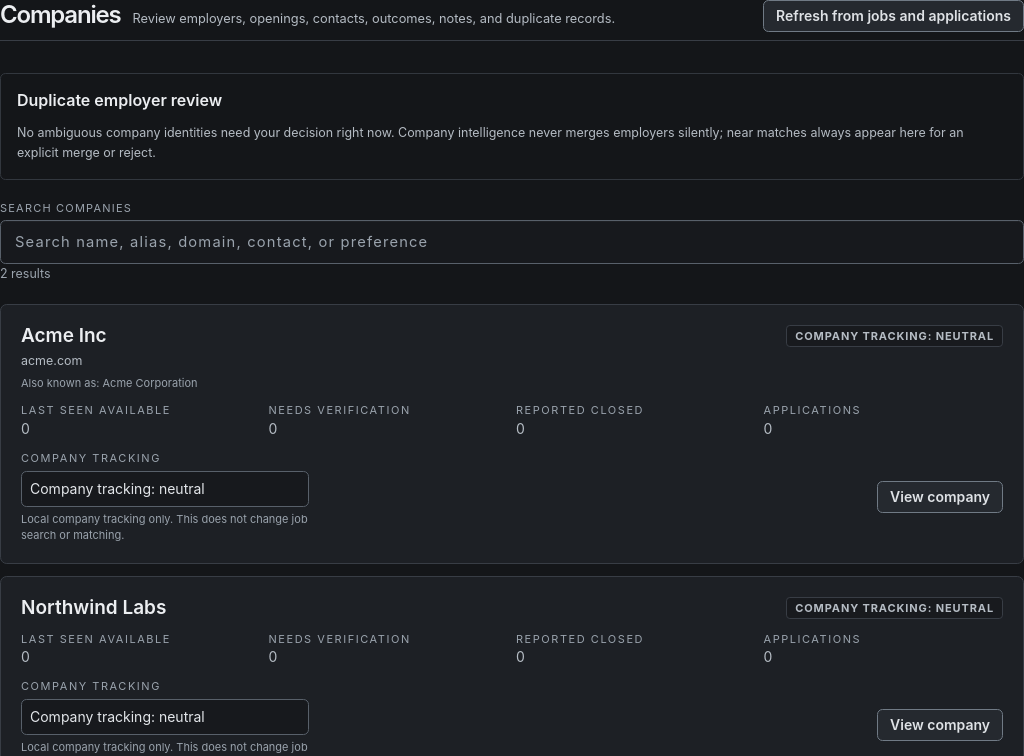
it: CompaniesScreen › searches companies by name, alias, and domain and keeps the count visible
Expected: the heading "Acme Inc" is shown, [21,324,107,347]
Expected: the heading "Northwind Labs" is shown, [21,597,166,620]
Type "acme.com" into the search field at (512,242), box [0,220,1023,264]
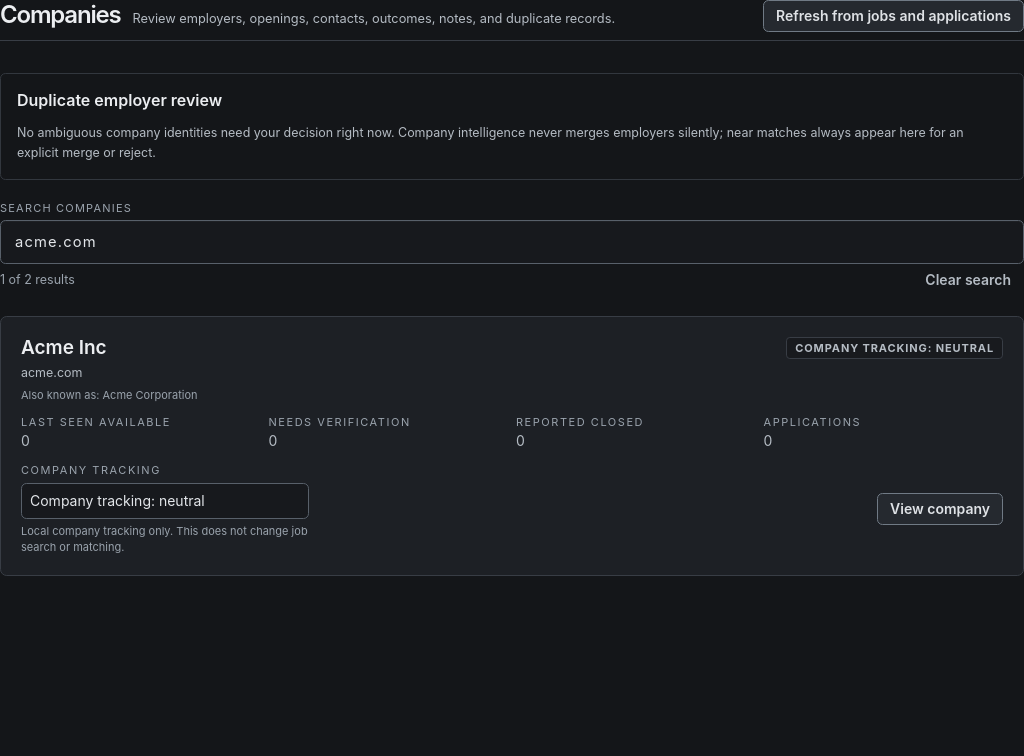
Expected: the heading "Acme Inc" is shown, [21,336,107,359]
Expected: the heading "Northwind Labs" is gone
Replace the text in the search field with "acme corporation" at (512,242), box [0,220,1023,264]
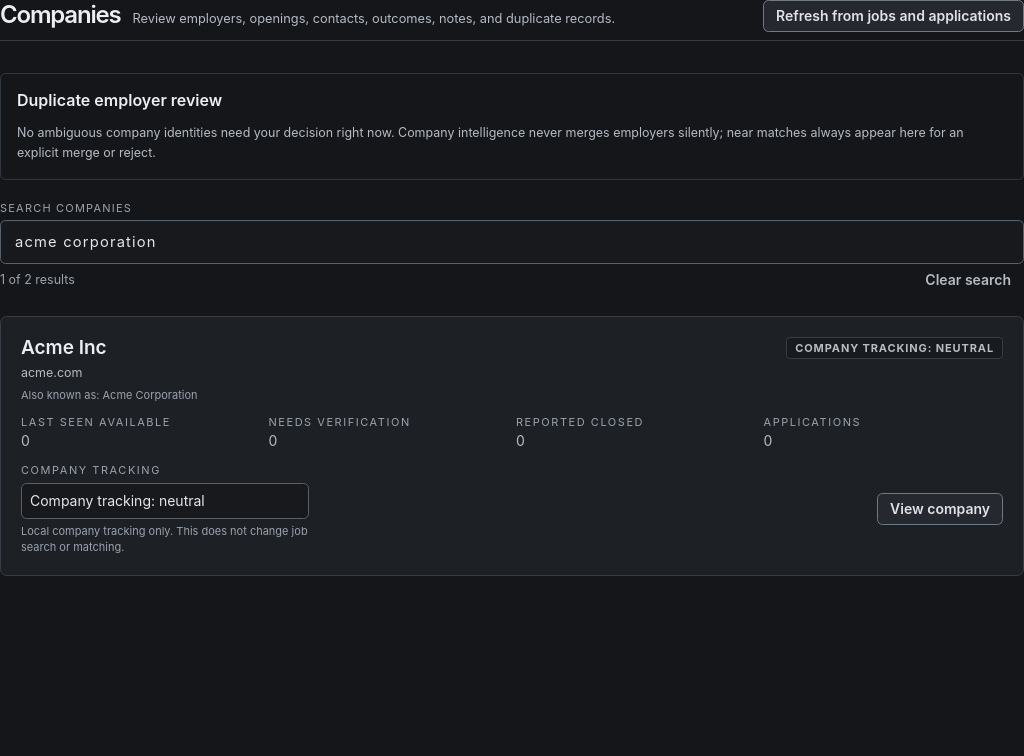
Expected: the heading "Acme Inc" is shown, [21,336,107,359]
Replace the text in the search field with "northwind" at (512,242), box [0,220,1023,264]
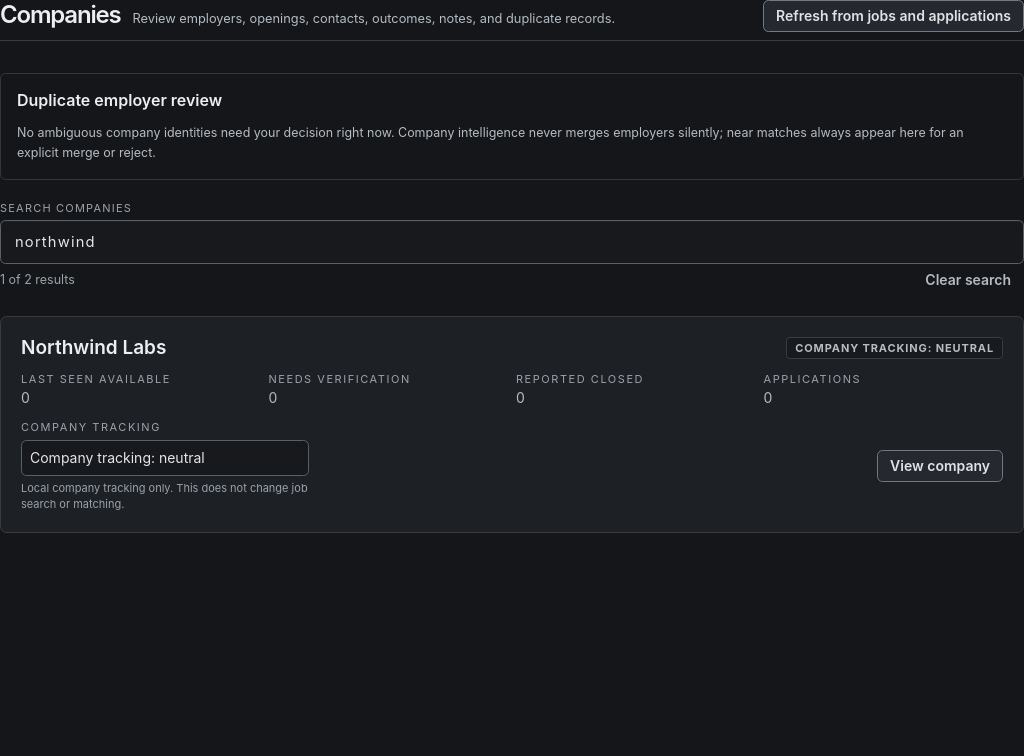
Expected: the heading "Acme Inc" is gone
Expected: the heading "Northwind Labs" is shown, [21,337,166,360]
